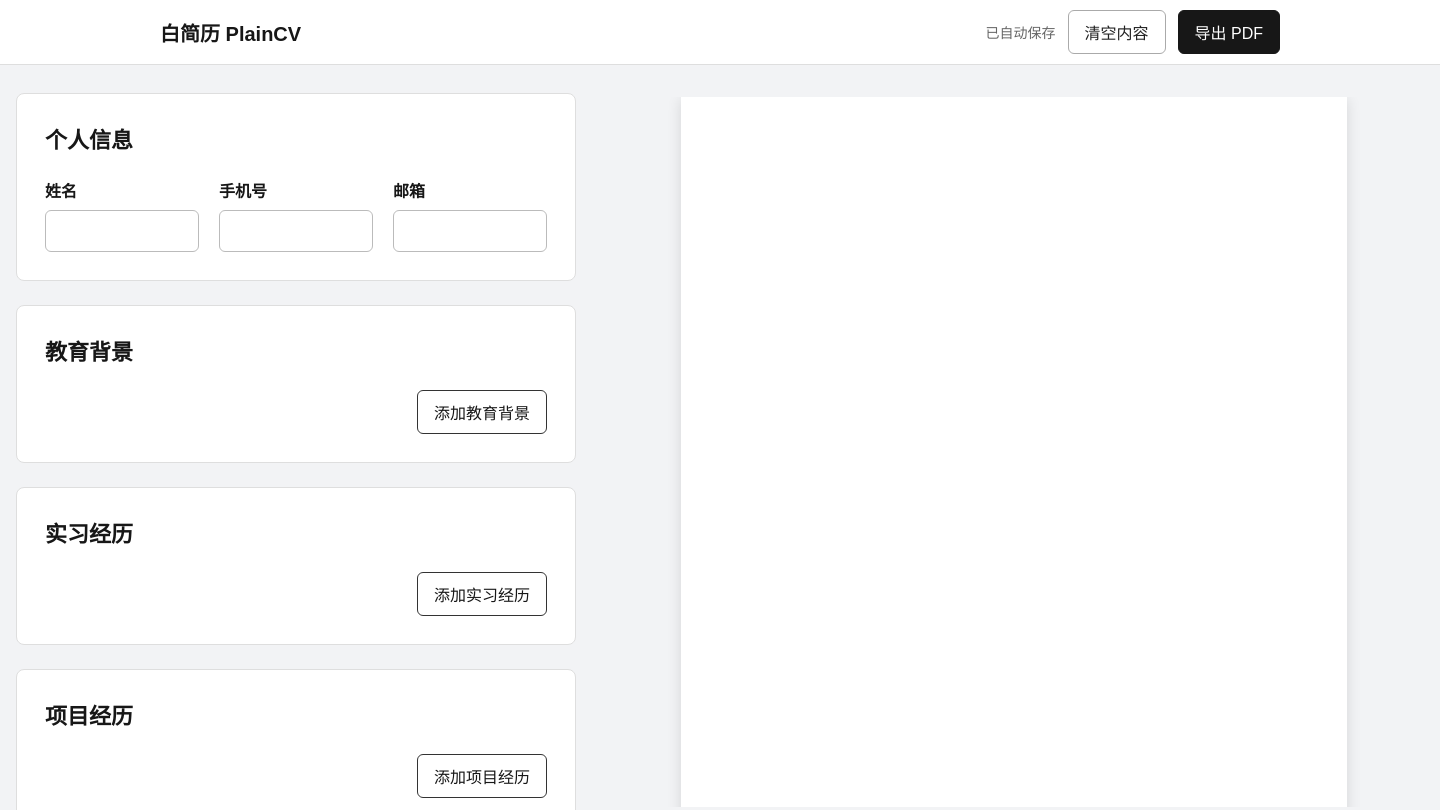
Test: ResumeBuilderPage › adds, previews, saves and deletes an education item
Expected: the text "已自动保存" is shown, left=986, top=22, right=1056, bottom=42
Click the button "添加教育背景": (482, 412) left=417, top=390, right=547, bottom=434
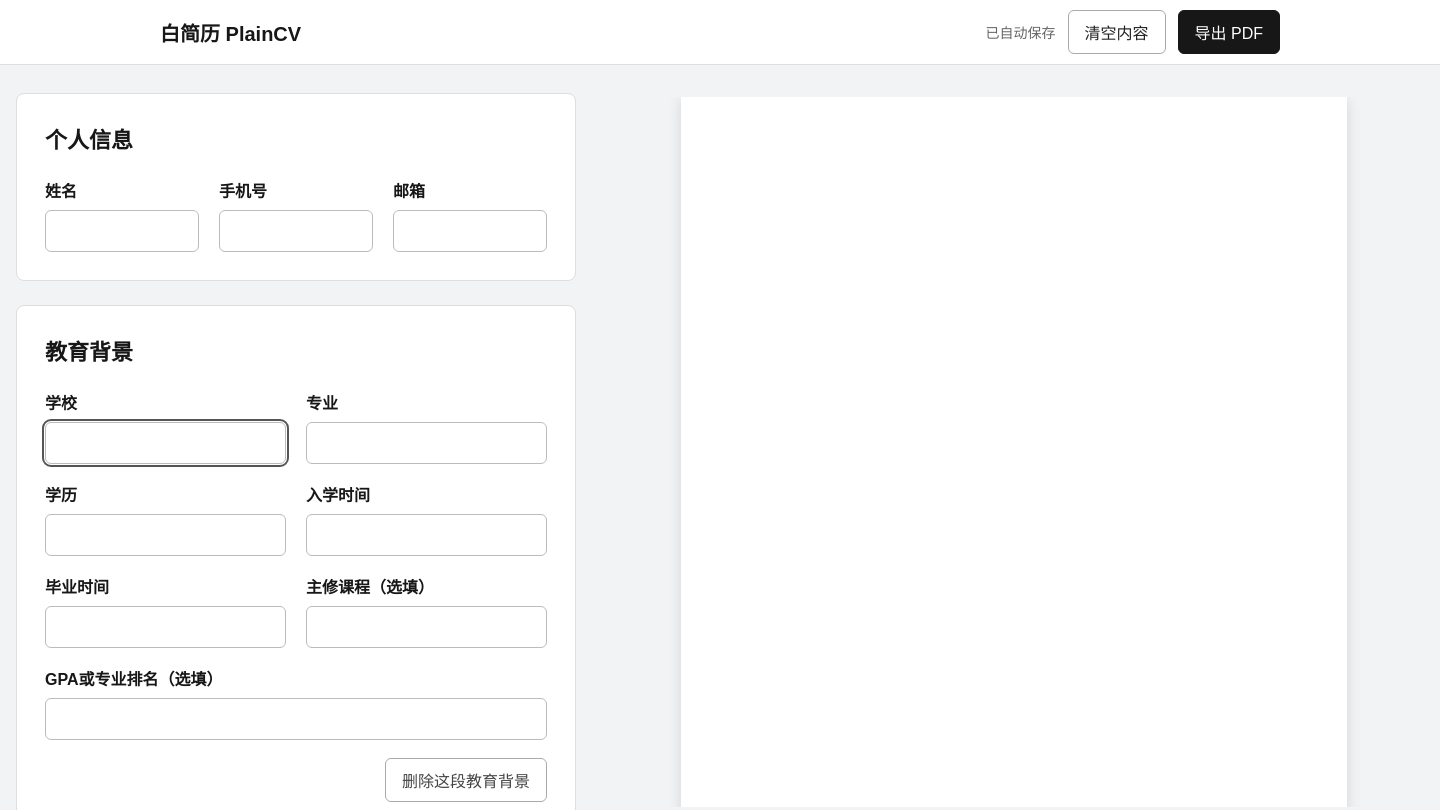
In the field labelled "学校": (166, 443) left=45, top=422, right=286, bottom=464, type "测试大学"
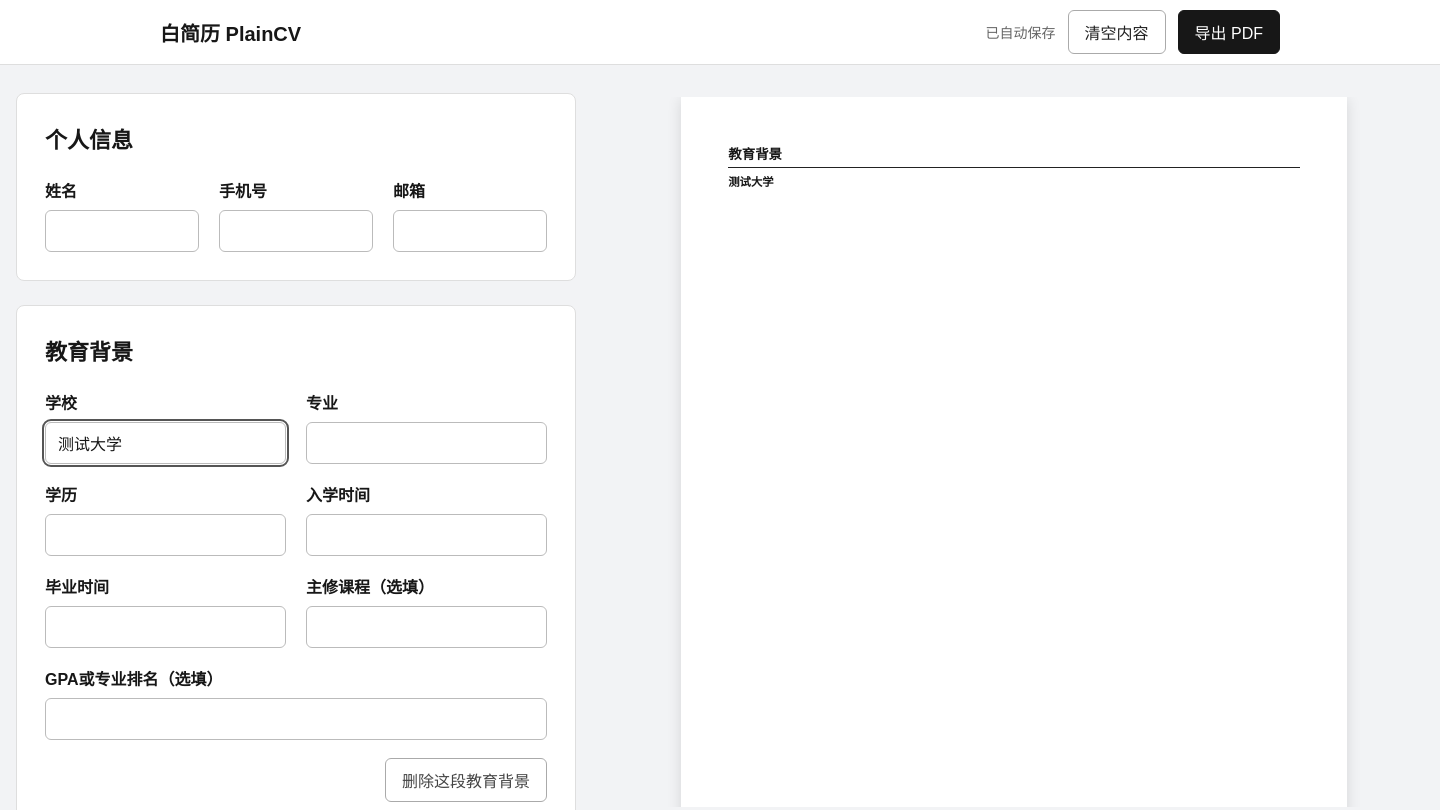
Expected: the text "测试大学" is shown, left=728, top=174, right=774, bottom=190
Click the button "删除这段教育背景": (466, 780) left=385, top=758, right=547, bottom=802
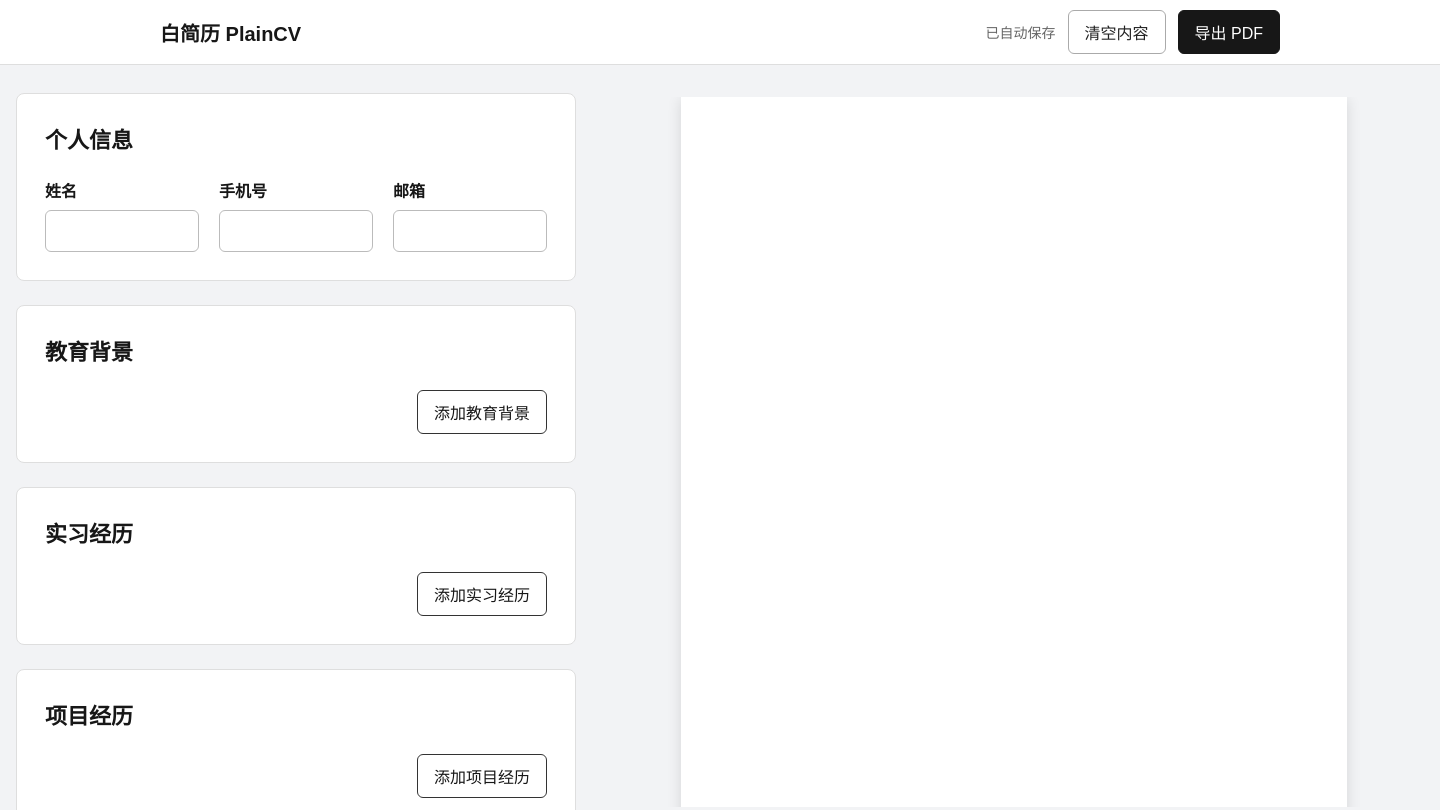
Expected: the label labelled "学校" is gone
